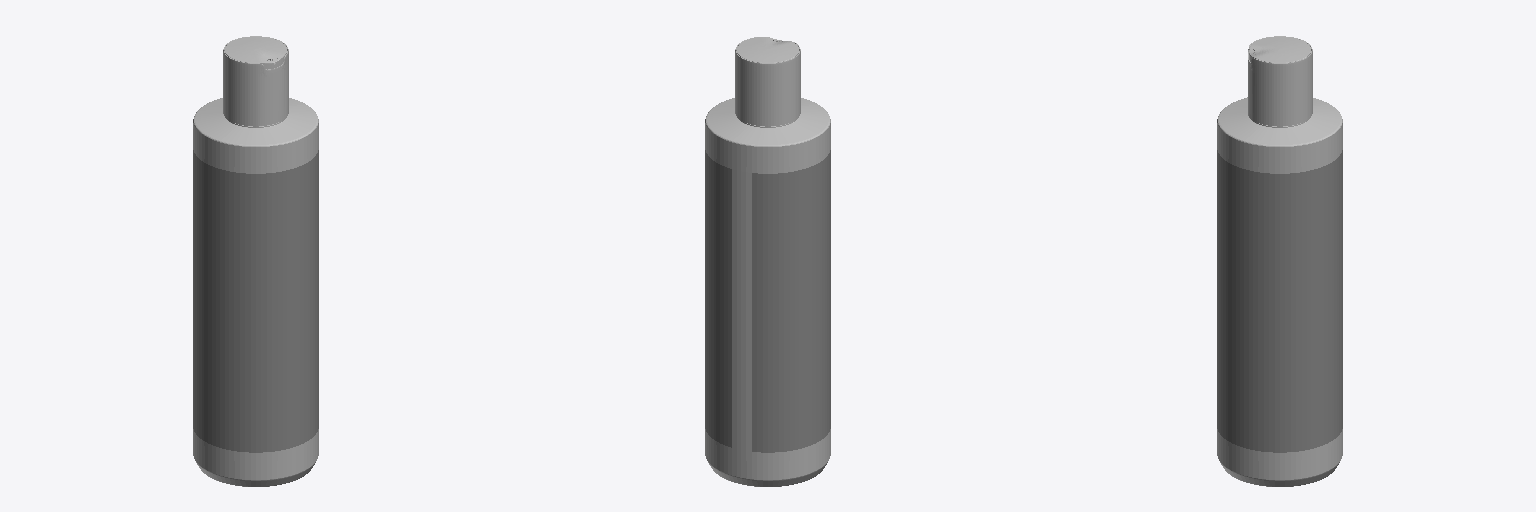
The model's file is flaska1_7.obj.
3 renders of one model, left to right at view 1: azimuth 30°, elevation 25°; view 2: azimuth 150°, elevation 25°; view 3: azimuth 270°, elevation 25°, orthographic.
Parts seen in each view (by area): view 1: etiketa, flaska, pokrovcek, stikalo_pokrovcek; view 2: etiketa, flaska, pokrovcek, stikalo_pokrovcek; view 3: etiketa, flaska, pokrovcek, stikalo_pokrovcek.
Boxes of the visible parts, x1,y1,x2,y2 form: etiketa: [193, 150, 318, 452]; flaska: [193, 98, 318, 486]; pokrovcek: [223, 36, 288, 126]; stikalo_pokrovcek: [225, 37, 286, 69]; etiketa: [705, 150, 830, 452]; flaska: [705, 98, 830, 486]; pokrovcek: [735, 37, 800, 126]; stikalo_pokrovcek: [737, 37, 798, 62]; etiketa: [1217, 150, 1342, 452]; flaska: [1217, 97, 1342, 486]; pokrovcek: [1248, 36, 1312, 126]; stikalo_pokrovcek: [1249, 37, 1310, 62].
Bounding box in the file's own units: 0.4906 × 1.78 × 0.4905.